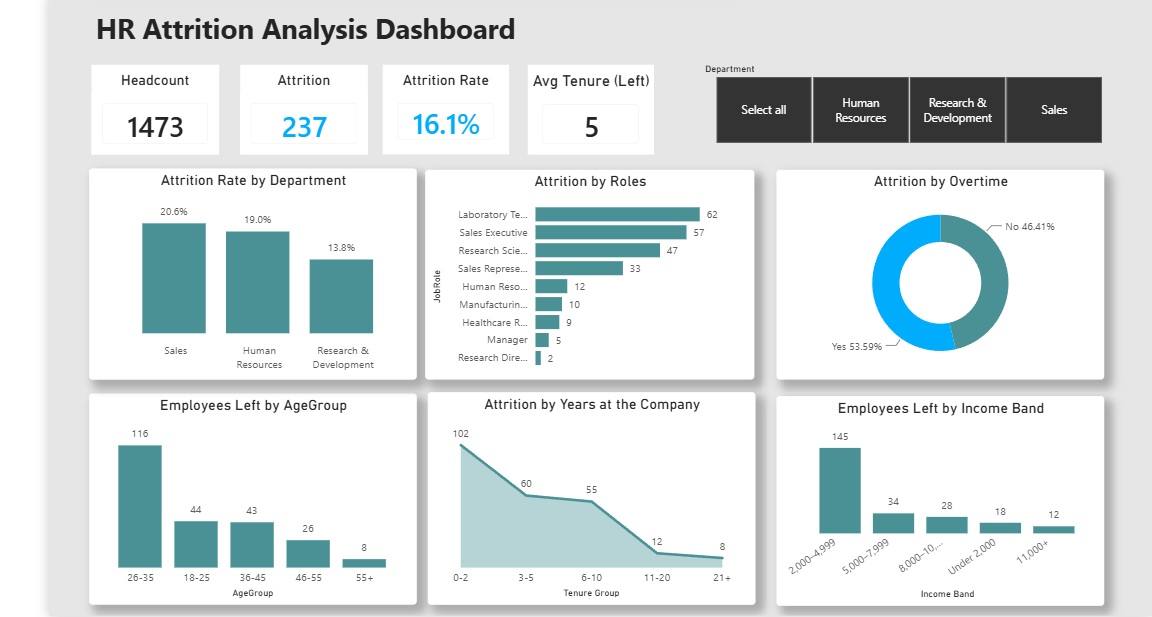

What the dashboard file says about the page in this screenshot:
{"tool":"powerbi","page":{"name":"Page 1","canvas":[1280,720],"ordinal":0},"visuals":[{"type":"textbox","box":[49.3,9.9,754.9,63.4],"z":0},{"type":"cardVisual","title":"Attrition","fields":{"Data":["HR_Analytics.Employees Left"]},"box":[221.1,80.3,147.9,104.2],"z":1000},{"type":"clusteredColumnChart","fields":{"Category":["HR_Analytics.AgeGroup"],"Y":["HR_Analytics.Employees Left"]},"box":[46.2,461.5,380,244.6],"z":2000},{"type":"clusteredColumnChart","fields":{"Y":["HR_Analytics.Attrition Rate"],"Category":["HR_Analytics.Department"]},"box":[46.5,200,380.3,245.1],"z":3000},{"type":"donutChart","title":"Attrition by Overtime","fields":{"Category":["HR_Analytics.OverTime"],"Y":["HR_Analytics.Employees Left"]},"box":[843.1,201.5,380,243.1],"z":4000},{"type":"barChart","title":"Attrition by Roles","fields":{"Y":["HR_Analytics.Employees Left"],"Category":["HR_Analytics.JobRole"]},"box":[436.9,201.5,381.5,243.1],"z":5000},{"type":"areaChart","title":"Attrition by Years at the Company","fields":{"Category":["HR_Analytics.Tenure Group"],"Y":["HR_Analytics.Employees Left"]},"box":[438.5,460,380,246.2],"z":6000},{"type":"cardVisual","title":"Attrition Rate","fields":{"Data":["HR_Analytics.Attrition Rate"]},"box":[387.3,80.3,146.5,104.2],"z":7000},{"type":"cardVisual","title":"Headcount","fields":{"Data":["Sum(HR_Analytics.EmployeeCount)"]},"box":[49.3,80.3,147.9,104.2],"z":8000},{"type":"cardVisual","title":"Avg Tenure (Left)","fields":{"Data":["HR_Analytics.Average Tenure (Left)"]},"box":[554.9,80.3,146.5,104.2],"z":9000},{"type":"clusteredColumnChart","fields":{"Y":["HR_Analytics.Employees Left"],"Category":["HR_Analytics.Income Band"]},"box":[843.1,463.1,380,243.1],"z":10000},{"type":"slicer","fields":{"Values":["HR_Analytics.Department"]},"box":[723.9,65.1,518.8,91.7],"z":11000}]}

Visuals, with their boxes in screenshot pixels (x1, y1, x2, y2):
textbox: box(102, 17, 741, 71)
"Attrition" cardVisual: box(247, 77, 372, 165)
clusteredColumnChart - HR_Analytics.AgeGroup x HR_Analytics.Employees Left: box(99, 400, 421, 607)
clusteredColumnChart - HR_Analytics.Attrition Rate x HR_Analytics.Department: box(99, 178, 421, 386)
"Attrition by Overtime" donutChart: box(774, 180, 1095, 385)
"Attrition by Roles" barChart: box(430, 180, 753, 385)
"Attrition by Years at the Company" areaChart: box(431, 398, 753, 607)
"Attrition Rate" cardVisual: box(388, 77, 512, 165)
"Headcount" cardVisual: box(102, 77, 227, 165)
"Avg Tenure (Left)" cardVisual: box(530, 77, 654, 165)
clusteredColumnChart - HR_Analytics.Employees Left x HR_Analytics.Income Band: box(774, 401, 1095, 607)
slicer - HR_Analytics.Department: box(673, 64, 1112, 142)
